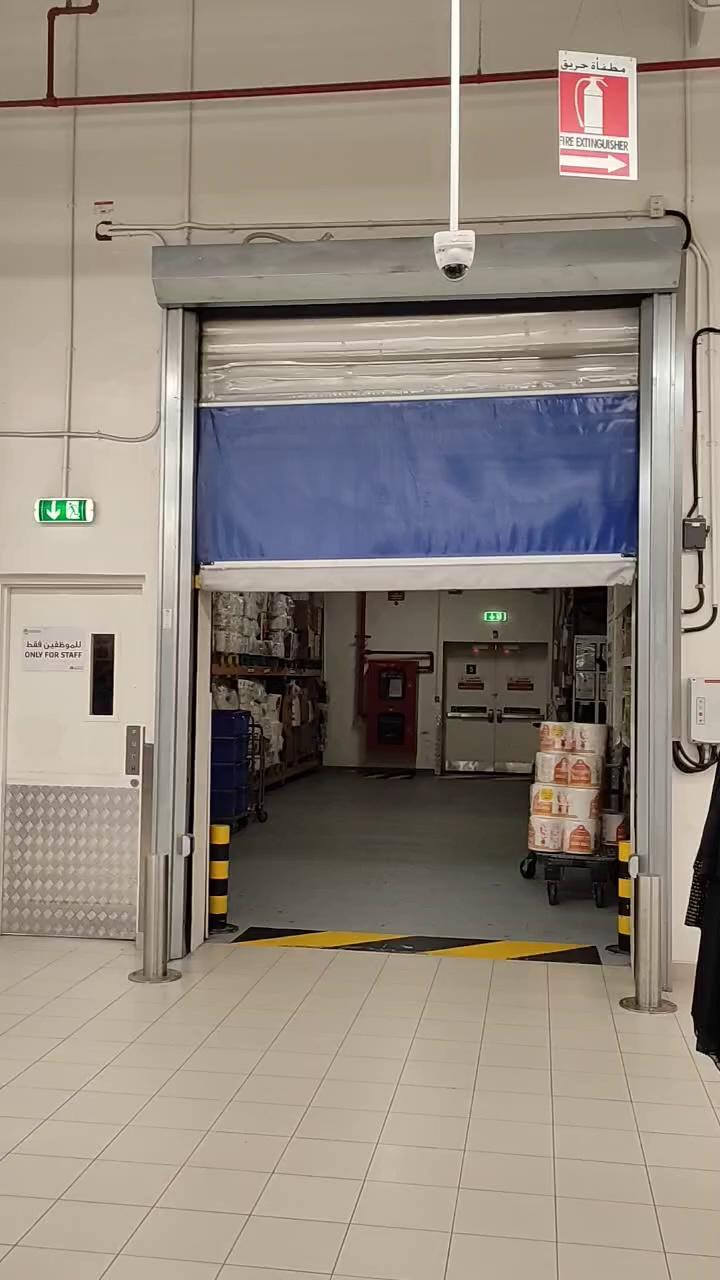Strip: (243, 918, 603, 969)
